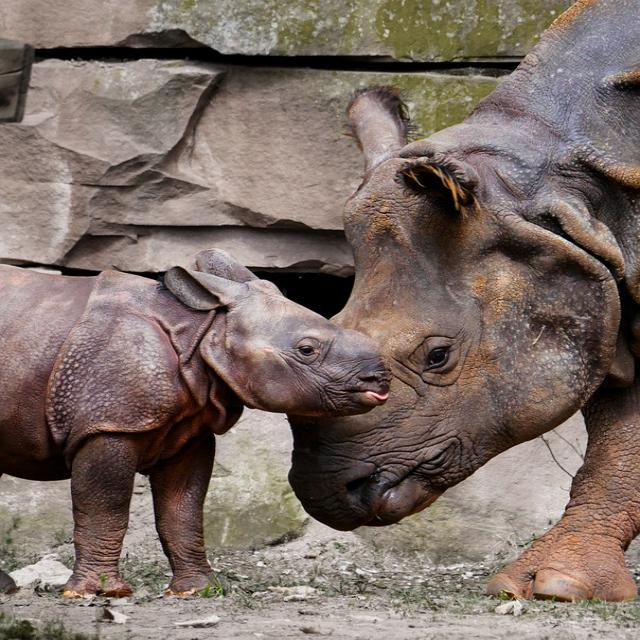Herbivorous: (287, 0, 640, 604), (0, 250, 392, 597)
